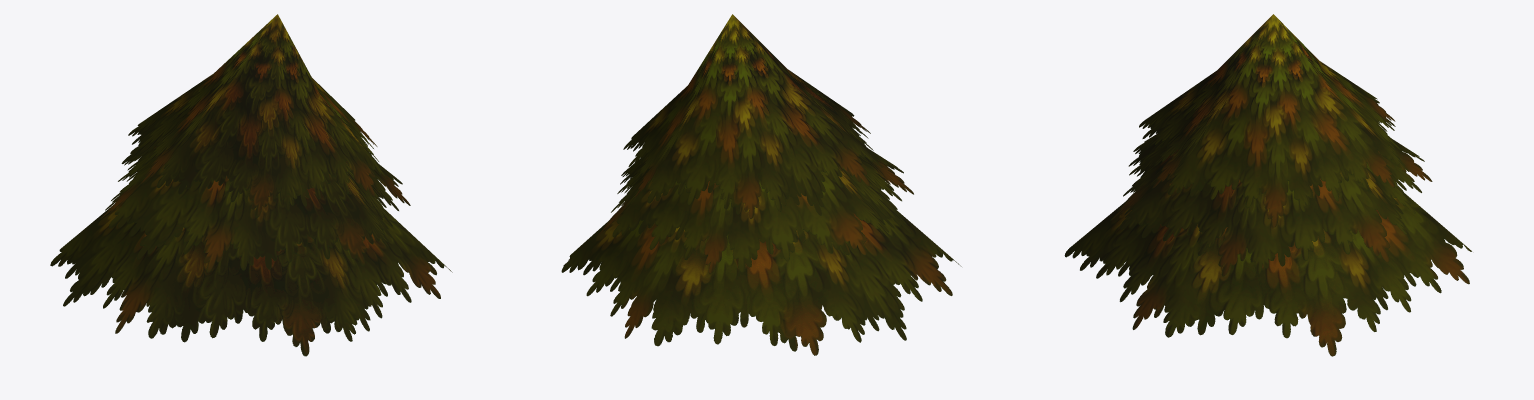
The model's file is PINE3.fbx.
The picture shows the model from 3 angles, left to right: view 1: azimuth 30°, elevation 25°; view 2: azimuth 150°, elevation 25°; view 3: azimuth 270°, elevation 25°; orthographic projection. The views are drawn at different scales.
Parts seen in each view (by area): view 1: cone_bottom, pinetop, cone_middle; view 2: cone_bottom, pinetop, cone_middle; view 3: pinetop, cone_bottom, cone_middle.
Boxes of the visible parts, <box> form: cone_bottom: <box>50,193,452,356</box>; pinetop: <box>121,14,388,217</box>; cone_middle: <box>100,145,410,272</box>; cone_bottom: <box>561,204,961,355</box>; pinetop: <box>623,14,882,218</box>; cone_middle: <box>596,150,913,274</box>; pinetop: <box>1139,14,1408,227</box>; cone_bottom: <box>1064,193,1471,356</box>; cone_middle: <box>1110,134,1432,276</box>.
Size of the model in its own units: 286 by 212 by 323.
1 material, 1 textured.
